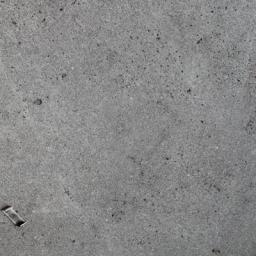FOD: (1, 203, 30, 233)
